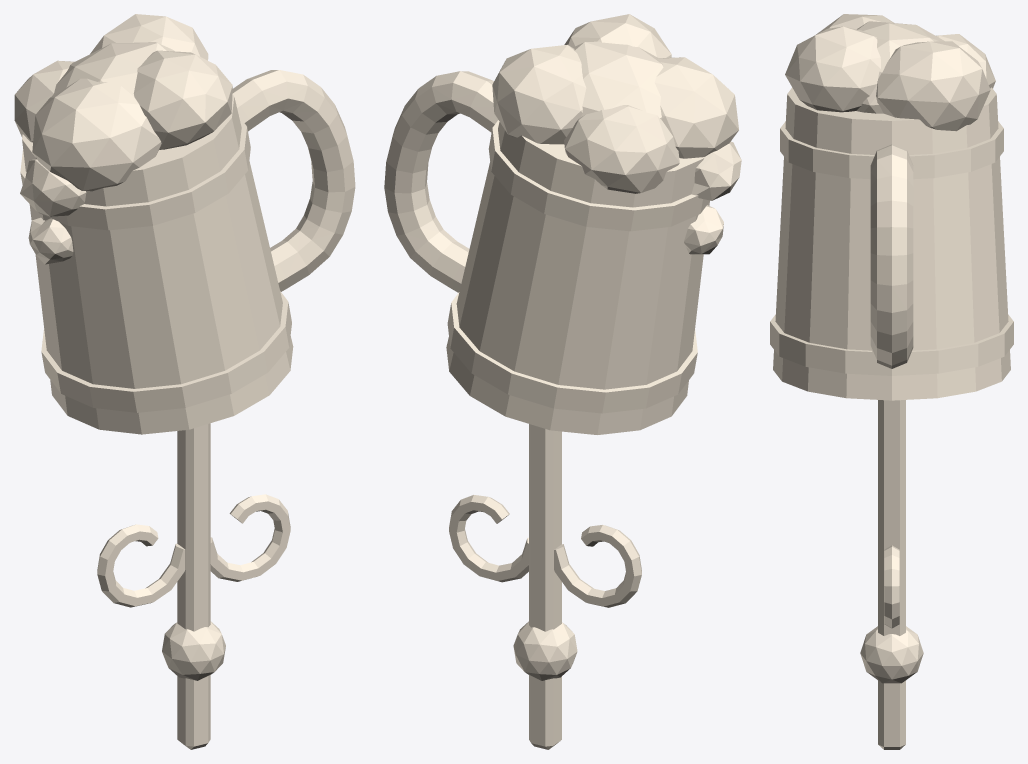
File: SM_VK_Emblem_Ridge_Tankard.fbx
The picture shows the model from 3 angles, left to right: view 1: azimuth 30°, elevation 25°; view 2: azimuth 150°, elevation 25°; view 3: azimuth 270°, elevation 25°; orthographic projection. The views are drawn at different scales.
Visible parts, largest first — view 1: SM_VK_Emblem_Ridge_Tankard.001; view 2: SM_VK_Emblem_Ridge_Tankard.001; view 3: SM_VK_Emblem_Ridge_Tankard.001.
Boxes of the visible parts, x1,y1,x2,y2 form: SM_VK_Emblem_Ridge_Tankard.001: [14, 14, 355, 749]; SM_VK_Emblem_Ridge_Tankard.001: [384, 14, 741, 749]; SM_VK_Emblem_Ridge_Tankard.001: [770, 14, 1013, 749].
Bounding box in the file's own units: 0.9537 × 1.93 × 0.6144.
